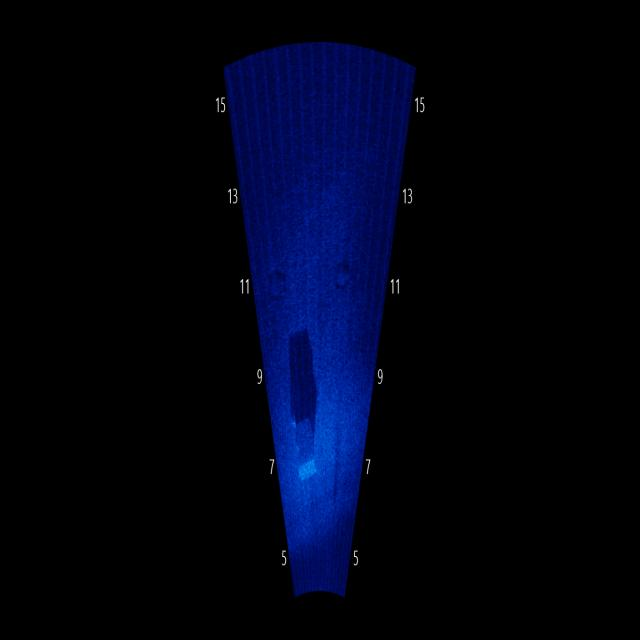square: (285, 390, 325, 497)
